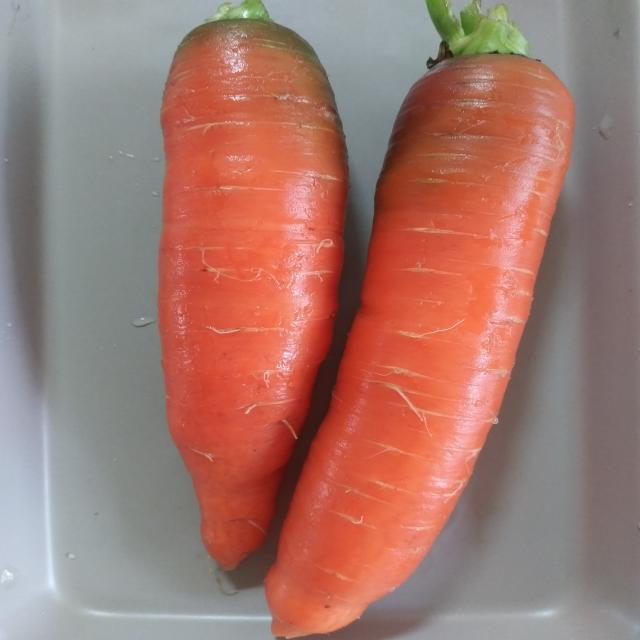carrot: (258, 2, 583, 640), (150, 15, 353, 578)
